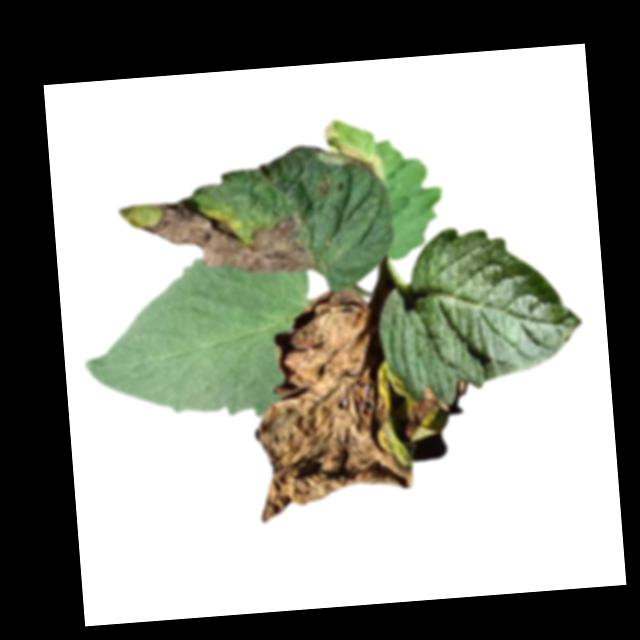Late_blight: (244, 284, 416, 525), (140, 188, 313, 284), (314, 116, 383, 183), (399, 384, 445, 440)
healthy: (76, 248, 322, 428), (370, 217, 592, 409)
